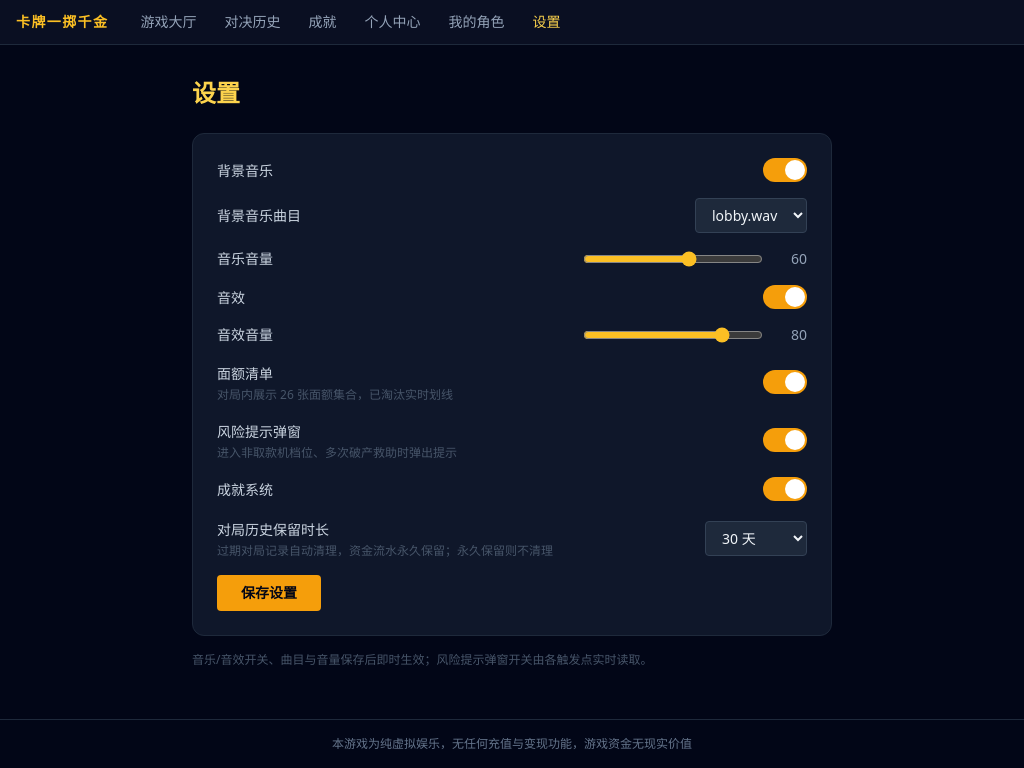
Test: SettingsPage：对局历史保留时长下拉（M8 文档外补充） › 服务端拒绝非法值（如白名单外）→ 展示错误文案，不提示保存成功
Check: the dropdown named "对局历史保留时长" is shown, box [705,520,807,556]
Click the button "保存设置": click(269, 593) [217,575,321,611]
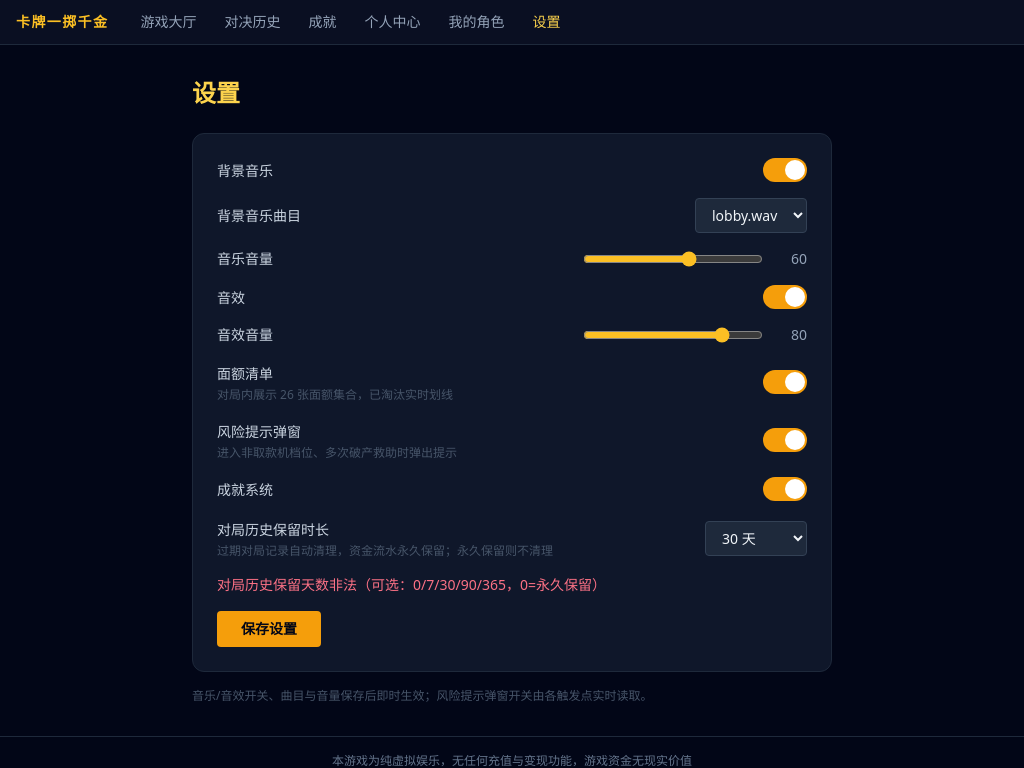
Check: the text "对局历史保留天数非法（可选：0/7/30/90/365，0=永久保留）" is shown, box [217,575,606,594]
